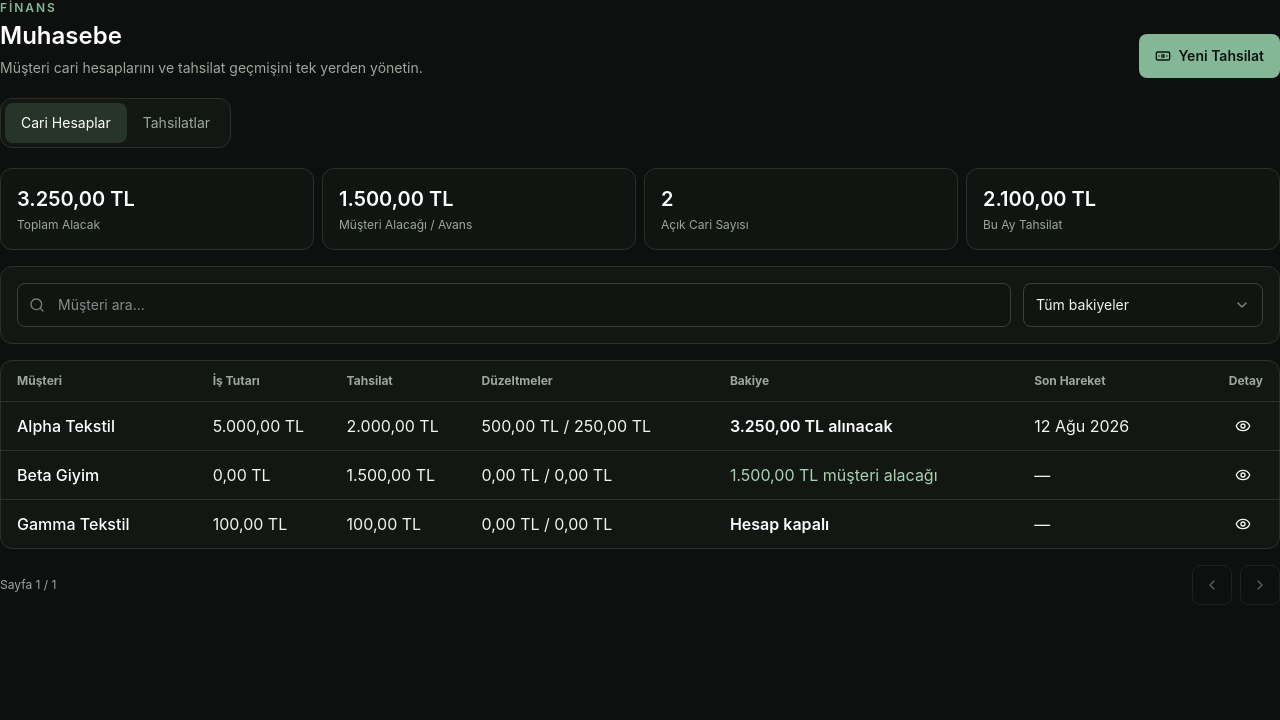
Test: FinancePage › cari detayında tüm hareket türlerini ve string-safe TL tutarlarını gösterir
Click the button named "Cari hesabı görüntüle: Alpha Tekstil".
click(1243, 426)  # box [1223,406,1263,446]
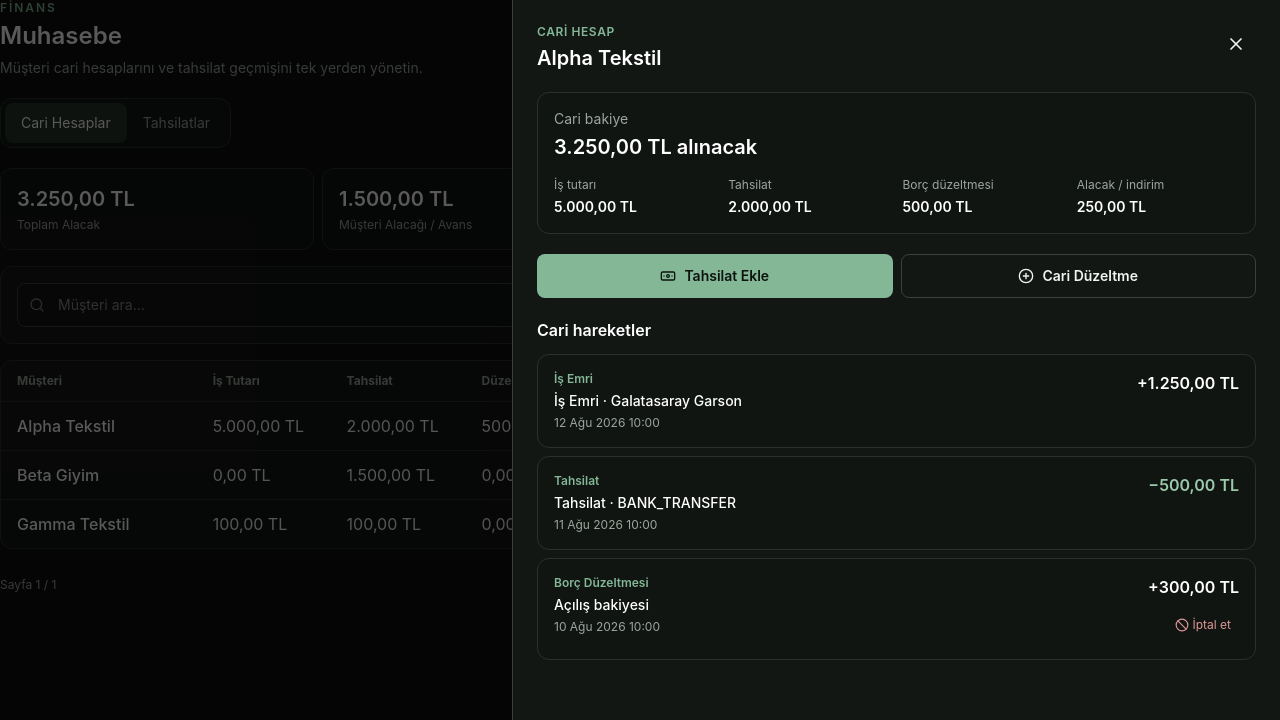
Result: the heading "Cari hareketler" is shown at [537,320,651,340]
Result: the text "İş Emri · Galatasaray Garson" is shown at [554,391,742,411]
Result: the text "Açılış bakiyesi" is shown at [554,595,660,615]
